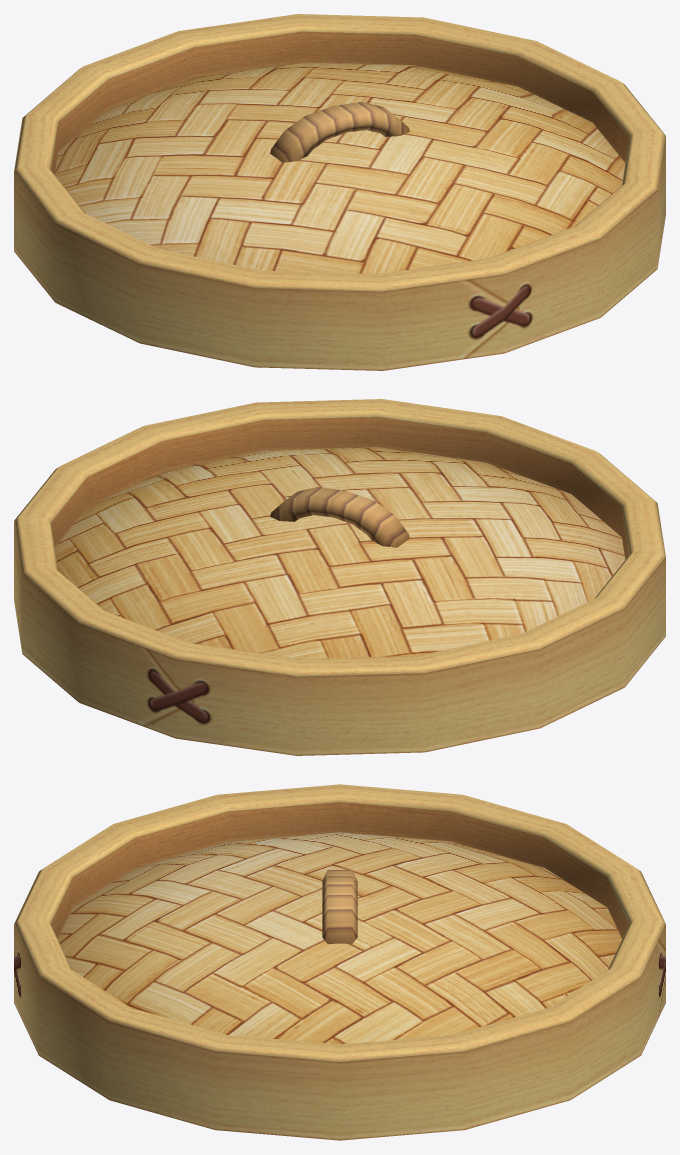
File: Steamer_Lid.fbx
3 views of the same model, one above another, from view 1: azimuth 30°, elevation 25°; view 2: azimuth 150°, elevation 25°; view 3: azimuth 270°, elevation 25° (orthographic).
Parts seen in each view (by area): view 1: Steamer_Lid; view 2: Steamer_Lid; view 3: Steamer_Lid.
Part boxes in pixels (<box>): Steamer_Lid: <box>14,14,665,370</box>; Steamer_Lid: <box>14,399,665,755</box>; Steamer_Lid: <box>14,784,665,1140</box>.
Bounding box in the file's own units: 120 × 25.52 × 120.
